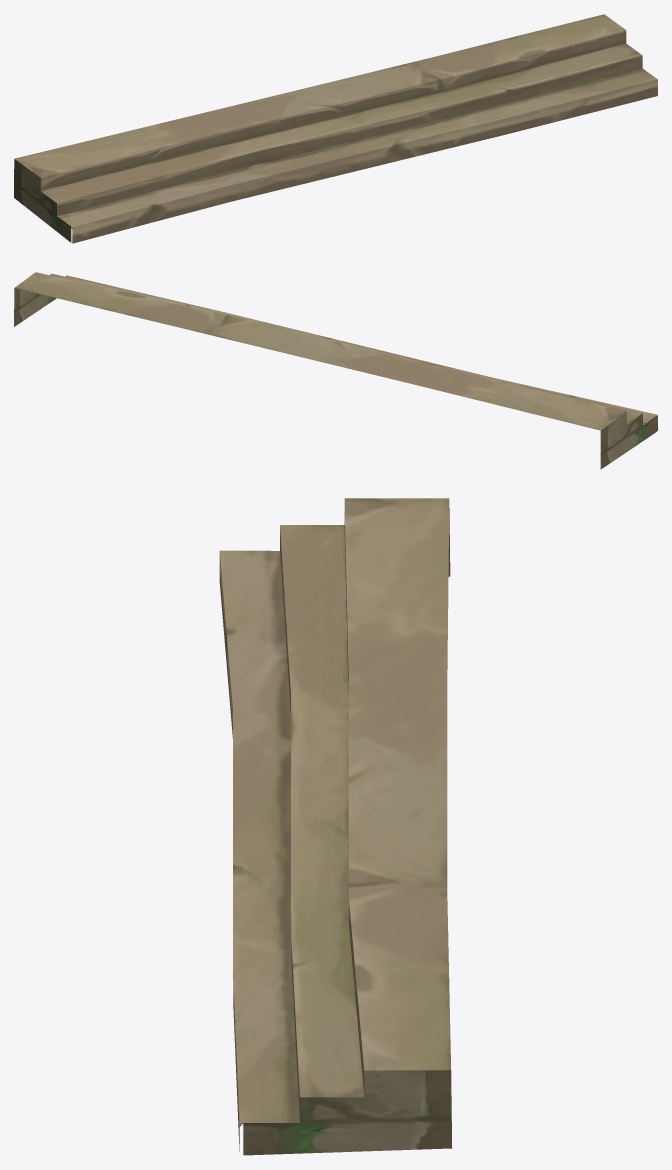
Rendered from LouTi01.FBX.
The picture shows the model from 3 angles, top to bottom: view 1: azimuth 30°, elevation 25°; view 2: azimuth 150°, elevation 25°; view 3: azimuth 270°, elevation 25°; orthographic projection. The views are drawn at different scales.
Visible parts, largest first — view 1: LouTi01; view 2: LouTi01; view 3: LouTi01.
Boxes of the visible parts, x1,y1,x2,y2 form: LouTi01: (14,14,657,243); LouTi01: (14,272,657,469); LouTi01: (219,498,452,1155).
Bounding box in the file's own units: 316 × 21.88 × 54.18.
